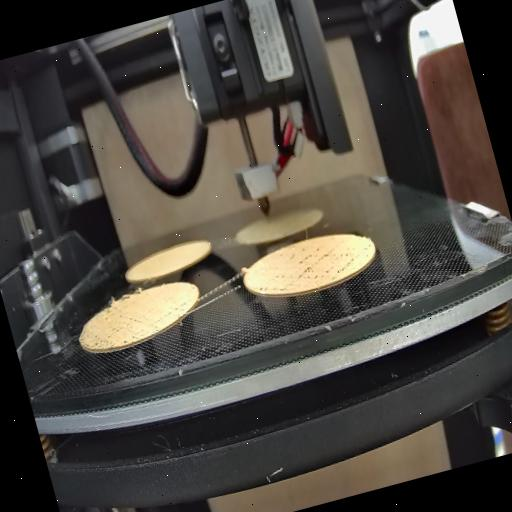under_extrusion: (291, 236, 360, 284), (88, 308, 150, 351), (151, 298, 193, 324), (257, 277, 288, 300)
